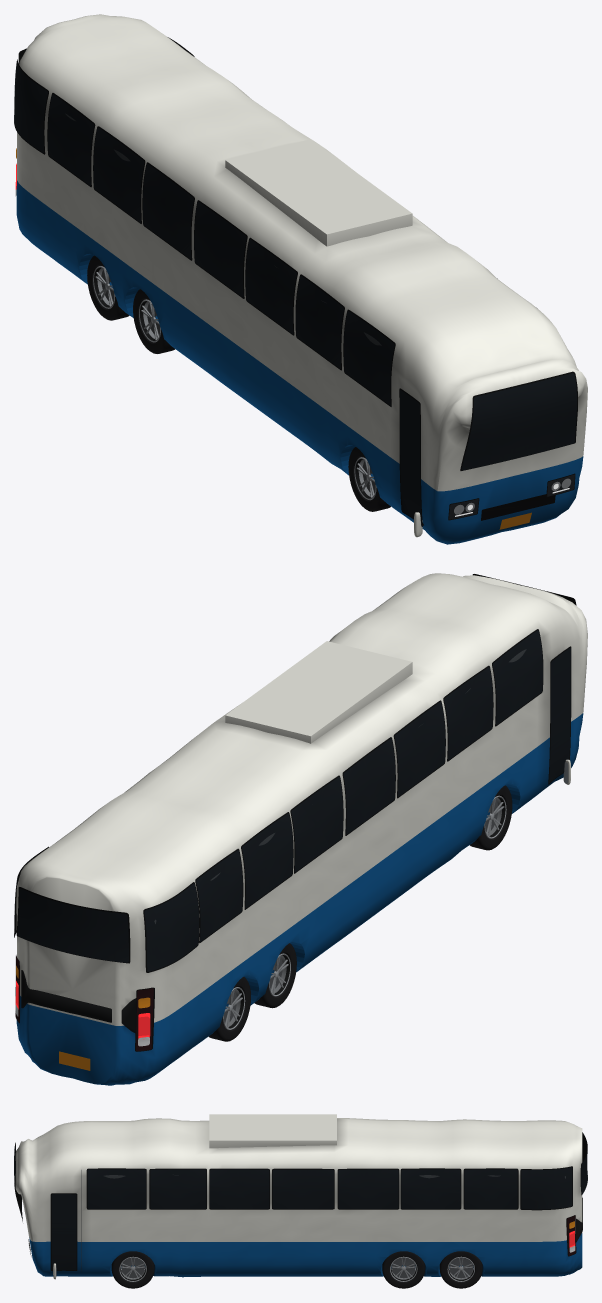
Rendered from coach.glb.
The picture shows the model from 3 angles, top to bottom: view 1: azimuth 30°, elevation 25°; view 2: azimuth 150°, elevation 25°; view 3: azimuth 270°, elevation 25°; orthographic projection. The views are drawn at different scales.
Parts seen in each view (by area): view 1: body, wheel_FR, wheel_RR; view 2: body, wheel_FR, wheel_RR; view 3: body, wheel_FL, wheel_RL.
Part boxes in pixels (bbox=[...]): body: bbox=[14, 14, 587, 544]; wheel_FR: bbox=[348, 447, 390, 511]; wheel_RR: bbox=[87, 255, 129, 320]; body: bbox=[14, 573, 587, 1085]; wheel_FR: bbox=[470, 785, 512, 850]; wheel_RR: bbox=[208, 977, 250, 1041]; body: bbox=[14, 1114, 587, 1288]; wheel_FL: bbox=[111, 1251, 154, 1288]; wheel_RL: bbox=[439, 1251, 482, 1288].
Bounding box in the file's own units: 2.74 × 3.77 × 13.85.
